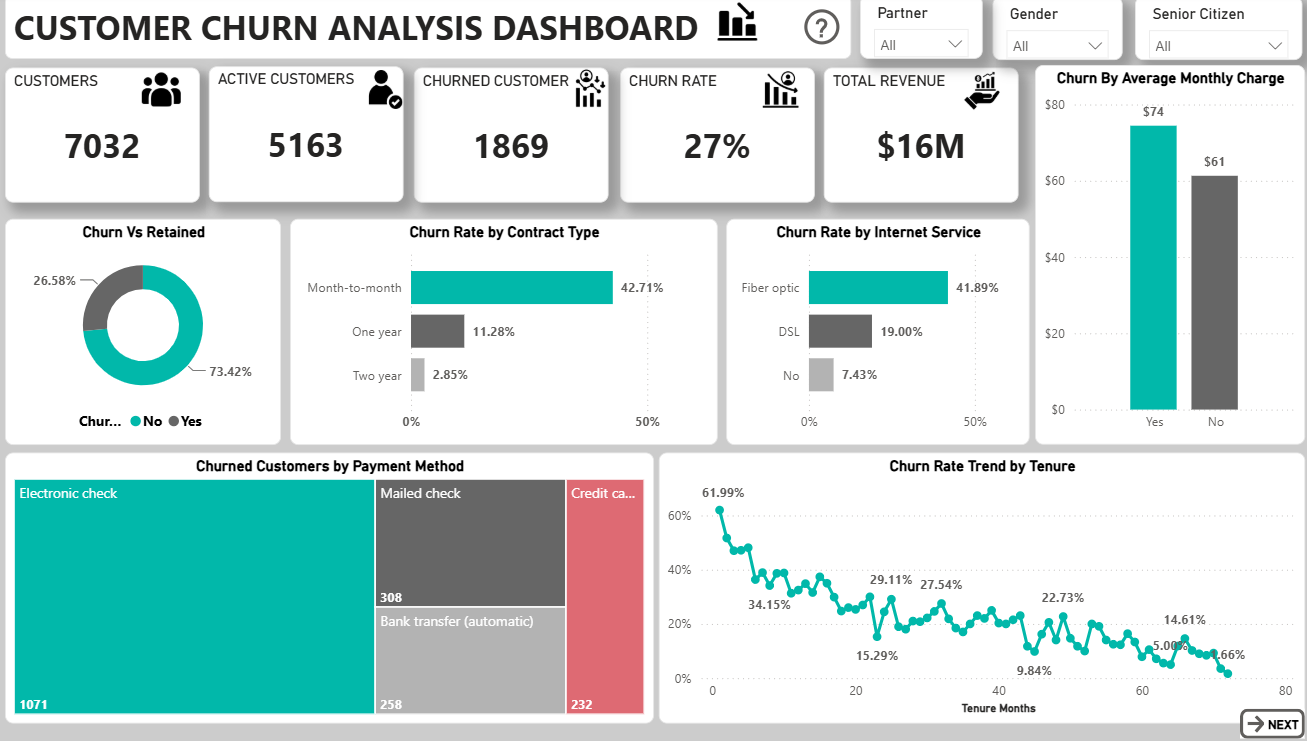

The page's visual inventory and layout, read from the dashboard file:
{"tool":"powerbi","page":{"name":"Executive Overview","canvas":[1280,720],"ordinal":0},"visuals":[{"type":"textbox","box":[9.7,0,816.8,61.5],"z":0},{"type":"cardVisual","title":"CUSTOMERS","fields":{"Data":["raw_data___Copy.Total Customers"]},"box":[9.7,70,188,130.3],"z":1000},{"type":"cardVisual","title":"CHURN RATE","fields":{"Data":["raw_data___Copy.Churn Rate"]},"box":[603.2,70,188.2,130.3],"z":2000},{"type":"cardVisual","title":"CHURNED CUSTOMER","fields":{"Data":["raw_data___Copy.Churned Customers"]},"box":[404.2,70,188.2,130.3],"z":3000},{"type":"cardVisual","title":"TOTAL REVENUE","fields":{"Data":["raw_data___Copy.Total Revenue"]},"box":[799.9,70,188.2,130.3],"z":4000},{"type":"cardVisual","title":"ACTIVE CUSTOMERS","fields":{"Data":["raw_data___Copy.Active Customers"]},"box":[206.3,68.8,188.2,131.5],"z":5000},{"type":"donutChart","title":"Churn Vs Retained","fields":{"Category":["raw_data___Copy.Churn Label"],"Y":["raw_data___Copy.Total Customers"]},"box":[9.7,216,266.6,218.4],"z":6000},{"type":"barChart","fields":{"Category":["raw_data___Copy.Internet Service"],"Y":["raw_data___Copy.Churn Rate"]},"box":[705.8,216,293.2,218.4],"z":7000},{"type":"image","box":[697.3,0,38.6,49.5],"z":8000},{"type":"clusteredBarChart","title":"Churn Rate by Contract Type","fields":{"Category":["raw_data___Copy.Contract"],"Y":["raw_data___Copy.Churn Rate"]},"box":[284.7,216,412.6,218.4],"z":9000},{"type":"treemap","fields":{"Group":["raw_data___Copy.Payment Method"],"Values":["raw_data___Copy.Churned Customers"]},"box":[9.7,441.6,626.1,261.8],"z":10000},{"type":"lineChart","title":"Churn Rate Trend by Tenure","fields":{"Category":["raw_data___Copy.Tenure Months"],"Y":["raw_data___Copy.Churn Rate"]},"box":[640.6,441.6,623.7,261.8],"z":11000},{"type":"slicer","fields":{"Values":["raw_data___Copy.Gender"]},"box":[962.7,1.2,125.5,61.5],"z":12000},{"type":"slicer","fields":{"Values":["raw_data___Copy.Senior Citizen"]},"box":[1100.3,1.2,161.7,61.5],"z":13000},{"type":"slicer","fields":{"Values":["raw_data___Copy.Partner"]},"box":[834.9,0,118.2,61.5],"z":14000},{"type":"clusteredColumnChart","title":"Churn By Average Monthly Charge","fields":{"Category":["raw_data___Copy.Churn Label"],"Y":["raw_data___Copy.Average Monthly Charge"]},"box":[1003.8,67.6,260.6,366.8],"z":15000},{"type":"image","box":[90.5,72.4,139.9,37.4],"z":16000},{"type":"image","box":[335.4,72.4,83.2,37.4],"z":17000},{"type":"image","box":[533.2,71.2,83.2,37.4],"z":18000},{"type":"image","box":[716.6,72.4,83.2,37.4],"z":19000},{"type":"image","box":[910.9,73.6,83.2,37.4],"z":20000},{"type":"actionButton","box":[775.7,8.4,50.7,44.6],"z":21000},{"type":"actionButton","box":[1201.6,688.9,62.7,29],"z":22000}]}

Visuals, with their boxes in screenshot pixels (x1, y1, x2, y2), scaled from the page's 1280x720 canvas onto the 1307x741 screenshot:
textbox: 10/0/844/63
"CUSTOMERS" cardVisual: 10/72/202/206
"CHURN RATE" cardVisual: 616/72/808/206
"CHURNED CUSTOMER" cardVisual: 413/72/605/206
"TOTAL REVENUE" cardVisual: 817/72/1009/206
"ACTIVE CUSTOMERS" cardVisual: 211/71/403/206
"Churn Vs Retained" donutChart: 10/222/282/447
barChart - raw_data___Copy.Internet Service x raw_data___Copy.Churn Rate: 721/222/1020/447
image: 712/0/751/51
"Churn Rate by Contract Type" clusteredBarChart: 291/222/712/447
treemap - raw_data___Copy.Payment Method x raw_data___Copy.Churned Customers: 10/454/649/724
"Churn Rate Trend by Tenure" lineChart: 654/454/1291/724
slicer - raw_data___Copy.Gender: 983/1/1111/65
slicer - raw_data___Copy.Senior Citizen: 1124/1/1289/65
slicer - raw_data___Copy.Partner: 853/0/973/63
"Churn By Average Monthly Charge" clusteredColumnChart: 1025/70/1291/447
image: 92/75/235/113
image: 342/75/427/113
image: 544/73/629/112
image: 732/75/817/113
image: 930/76/1015/114
actionButton: 792/9/844/55
actionButton: 1227/709/1291/739
